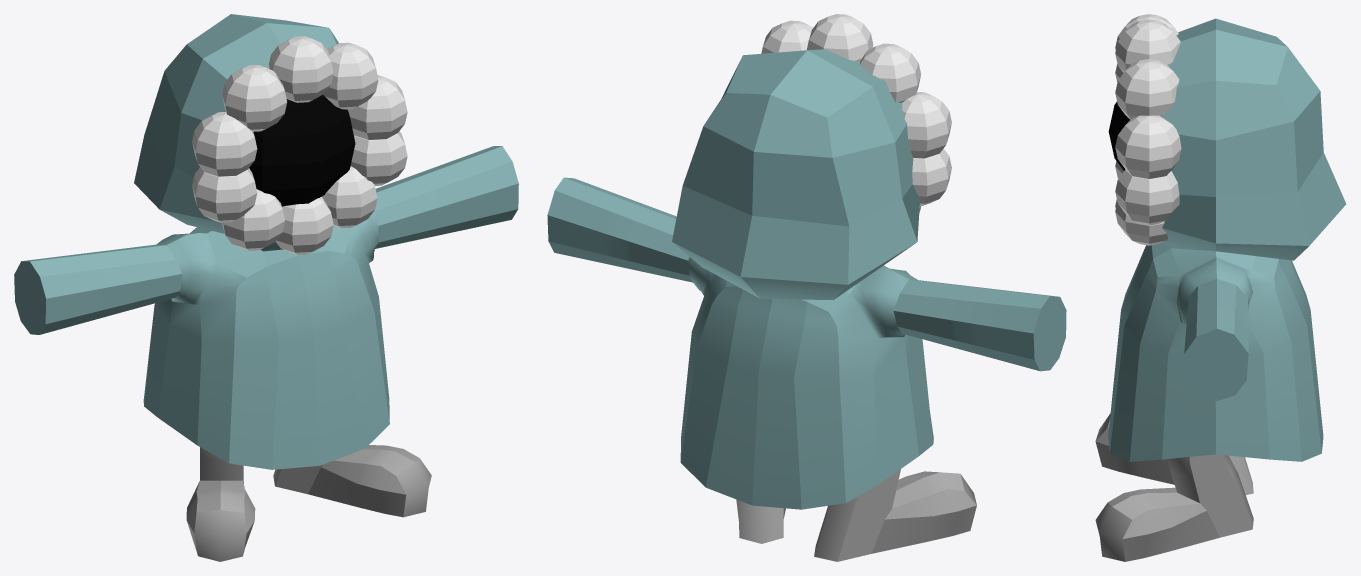
The model's file is Character_Whitebox.fbx.
3 renders of one model, left to right at view 1: azimuth 30°, elevation 25°; view 2: azimuth 150°, elevation 25°; view 3: azimuth 270°, elevation 25°, orthographic. The views are drawn at different scales.
Parts seen in each view (by area): view 1: group3_pCube4; view 2: group3_pCube4; view 3: group3_pCube4.
Part boxes in pixels (box(x1,y1,x2,y2)): group3_pCube4: box(14, 14, 518, 561); group3_pCube4: box(547, 14, 1066, 561); group3_pCube4: box(1095, 14, 1346, 561).
Bounding box in the file's own units: 5.34 × 5.19 × 2.44.
